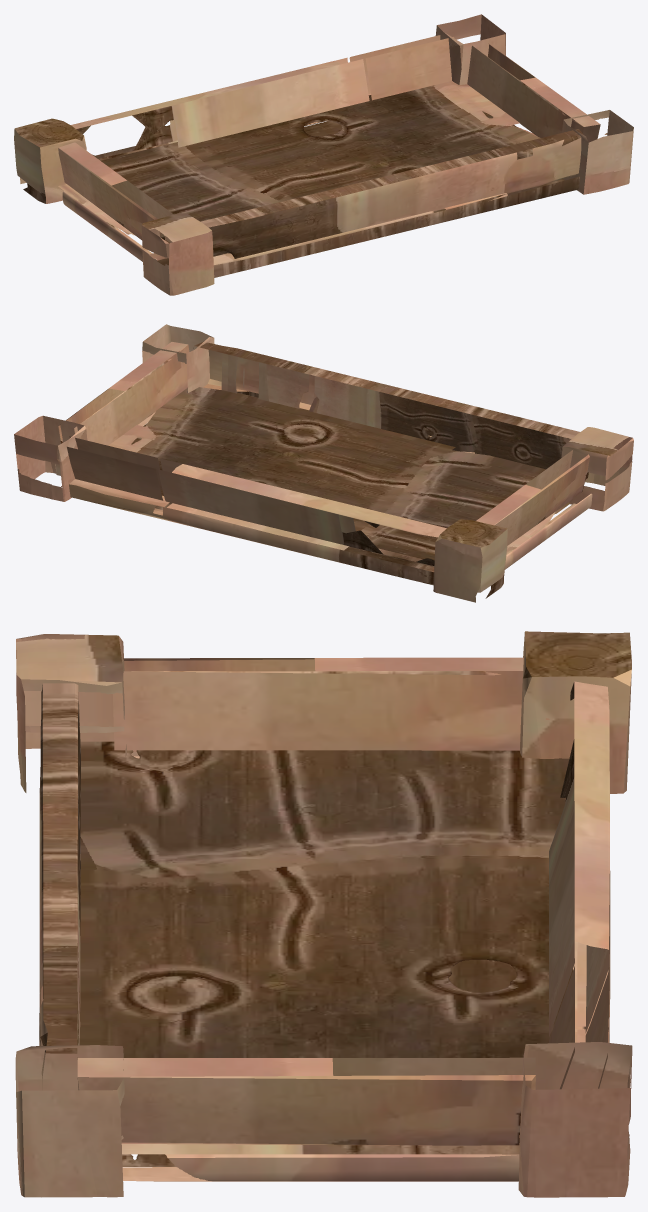
3 views of the same model, one above another, from view 1: azimuth 30°, elevation 25°; view 2: azimuth 150°, elevation 25°; view 3: azimuth 270°, elevation 25° (orthographic). The views are drawn at different scales.
Parts seen in each view (by area): view 1: SM_Dec_Workshop_Pot_Bench_LOD0; view 2: SM_Dec_Workshop_Pot_Bench_LOD0; view 3: SM_Dec_Workshop_Pot_Bench_LOD0.
Boxes of the visible parts, x1,y1,x2,y2 form: SM_Dec_Workshop_Pot_Bench_LOD0: [14, 14, 633, 295]; SM_Dec_Workshop_Pot_Bench_LOD0: [14, 324, 633, 602]; SM_Dec_Workshop_Pot_Bench_LOD0: [15, 631, 632, 1197].
Bounding box in the file's own units: 1.5 × 0.1766 × 0.8554.
